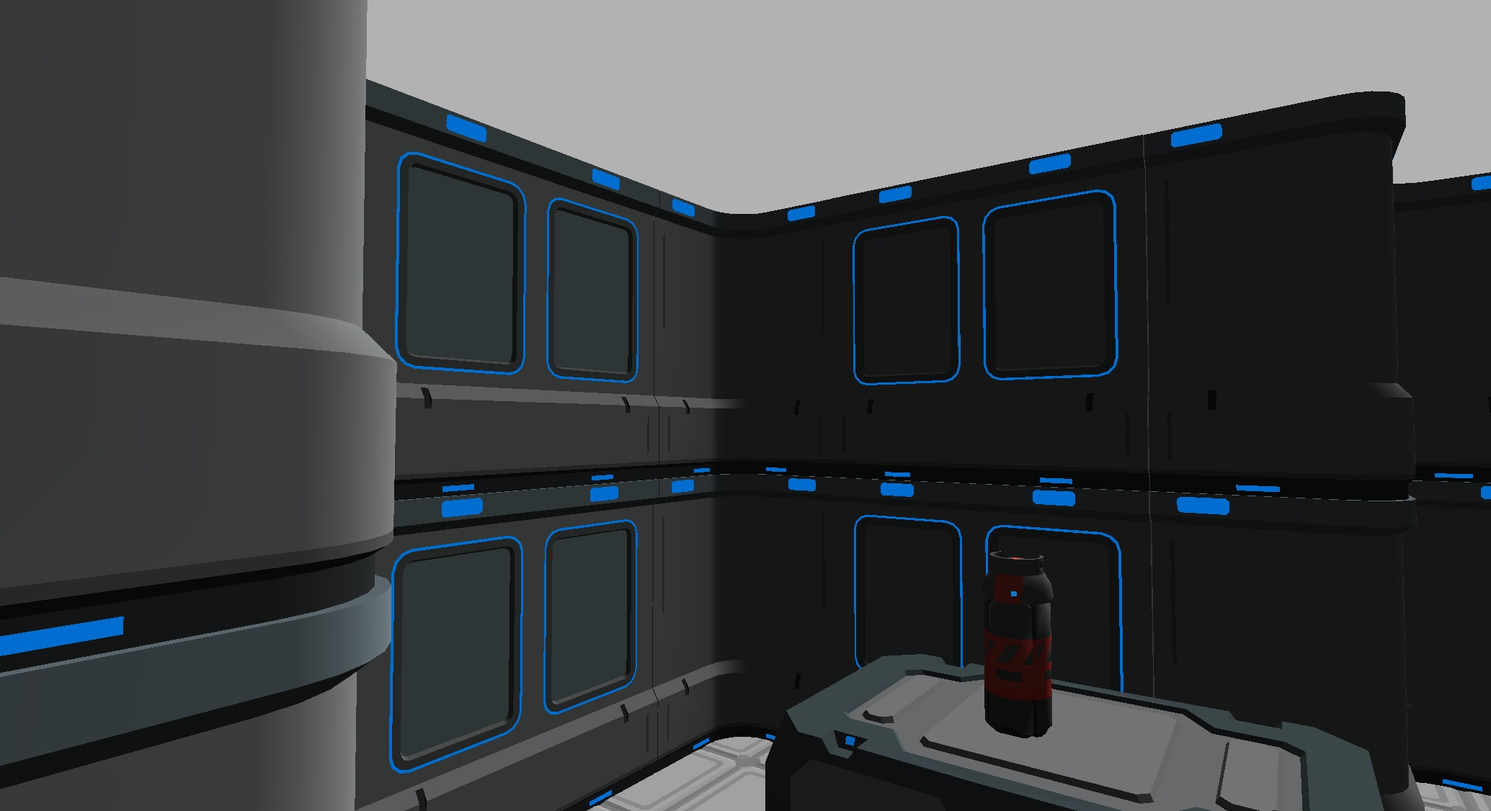red_barrel: (982, 552, 1051, 737)
